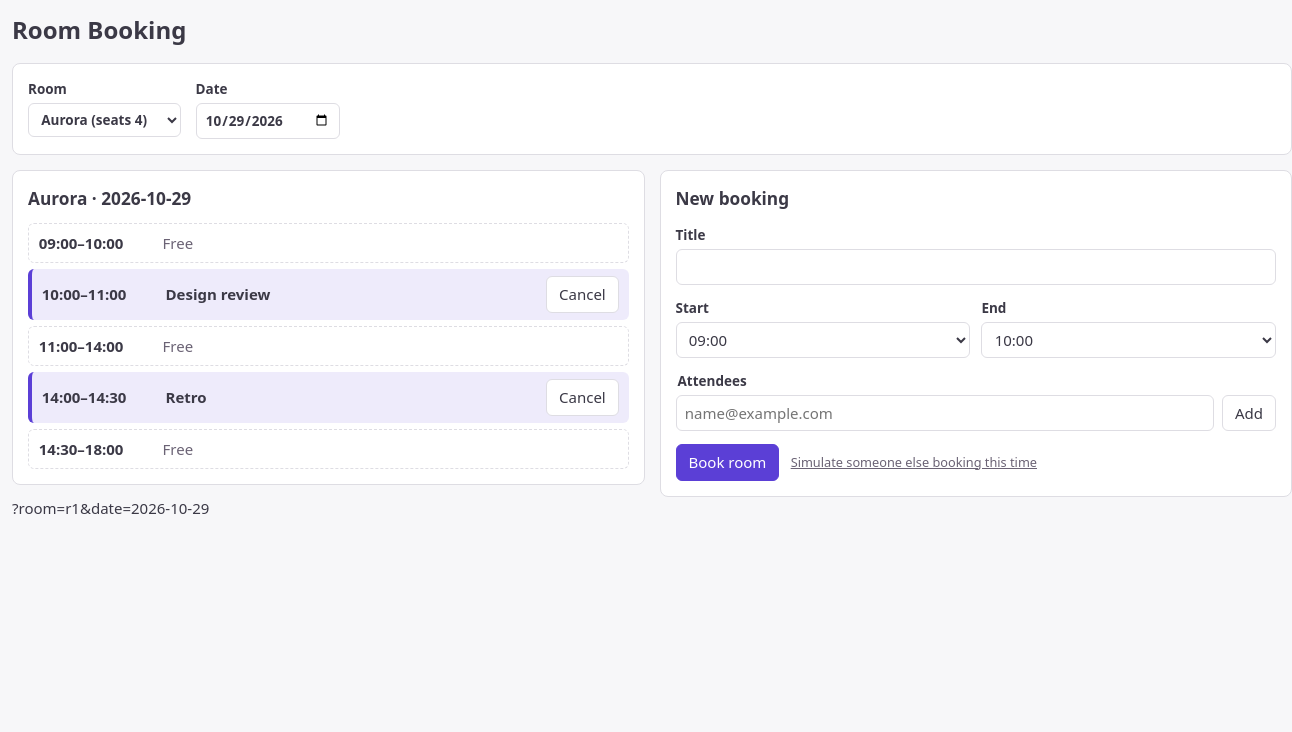
Test case: RoomBookingPage › keeps what the user typed and shows the reason when the API rejects the booking
Type "Budget sync" into the field labelled "Title" at (976, 267), box [676, 249, 1276, 285]
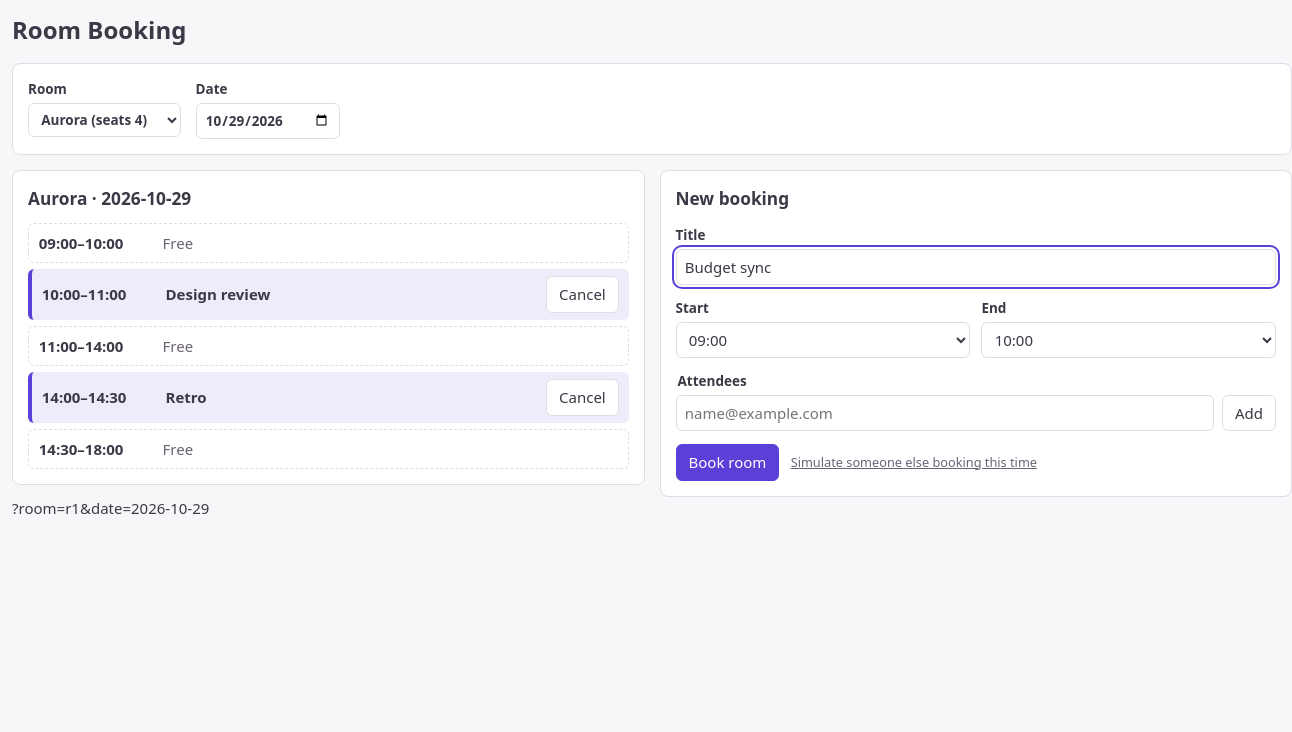
Select "12:00" in the dropdown labelled "Start" at (823, 340), box [676, 322, 970, 358]
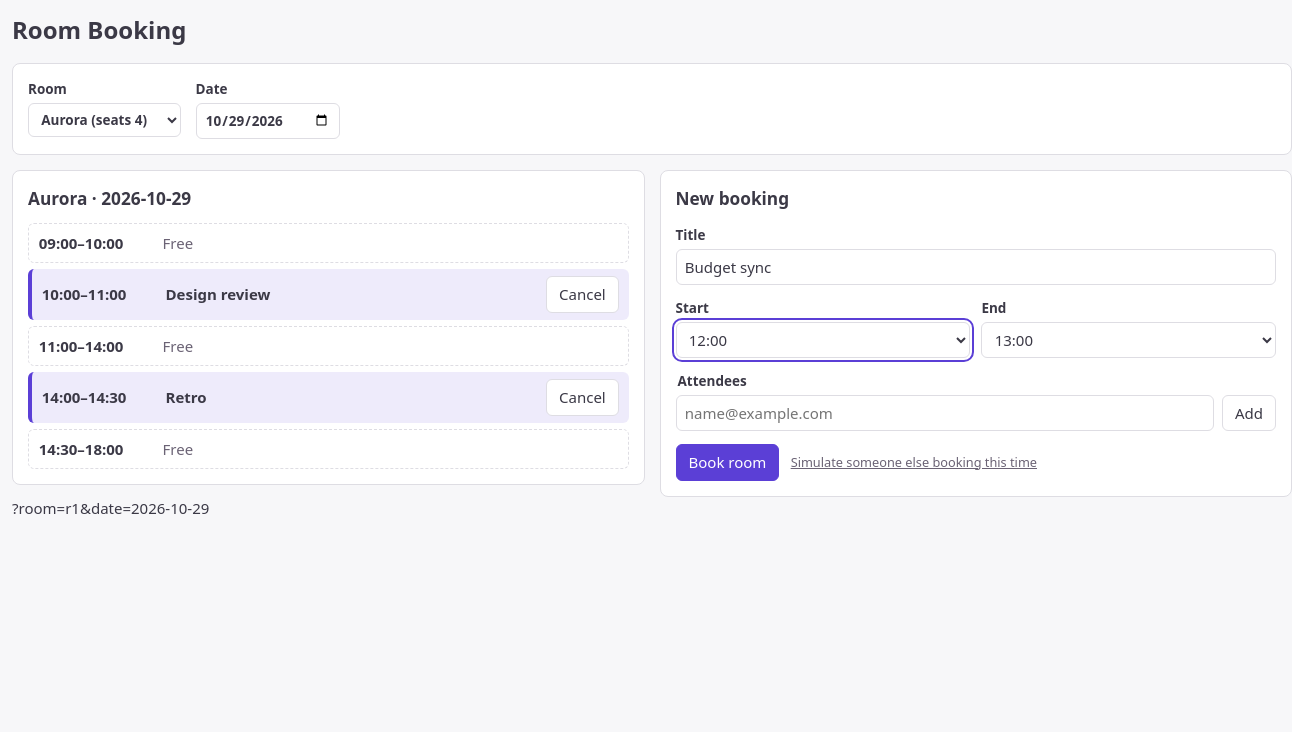
Type "ana@example.com" into the field named "Attendee email" at (945, 413), box [676, 395, 1214, 431]
Then press Enter
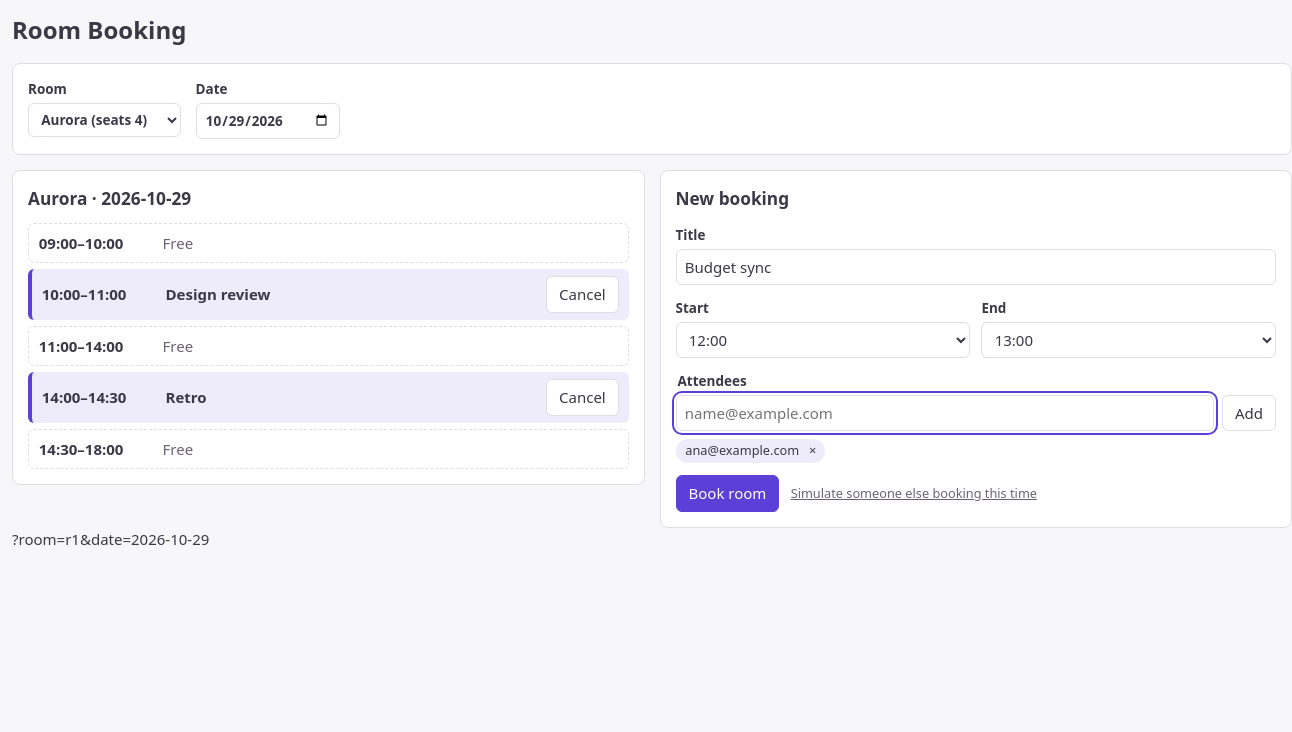
Click the button "Book room" at (727, 494), box [676, 475, 779, 512]
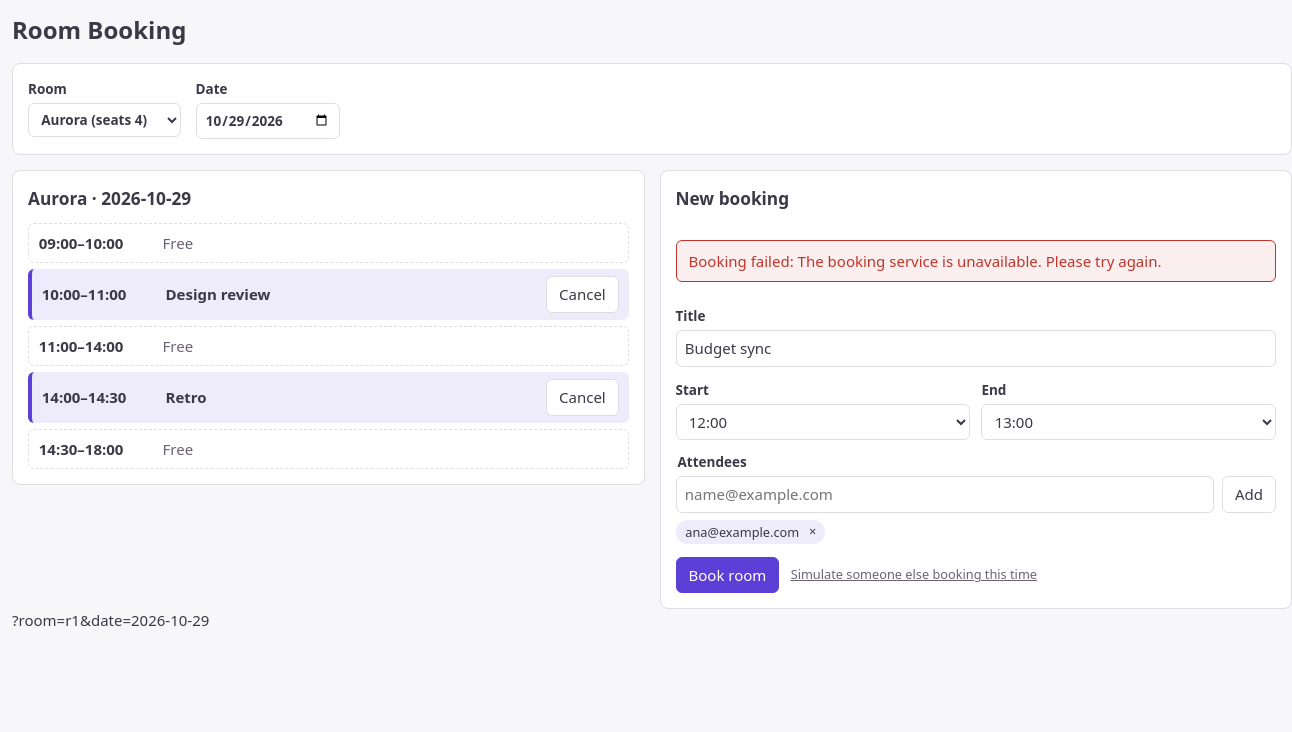
Expected: the list named "Added attendees" shows "ana@example.com", [685, 523, 799, 541]
Expected: the message reads "Booking failed: The booking service is unavailable. Please try again.", [676, 240, 1276, 282]
